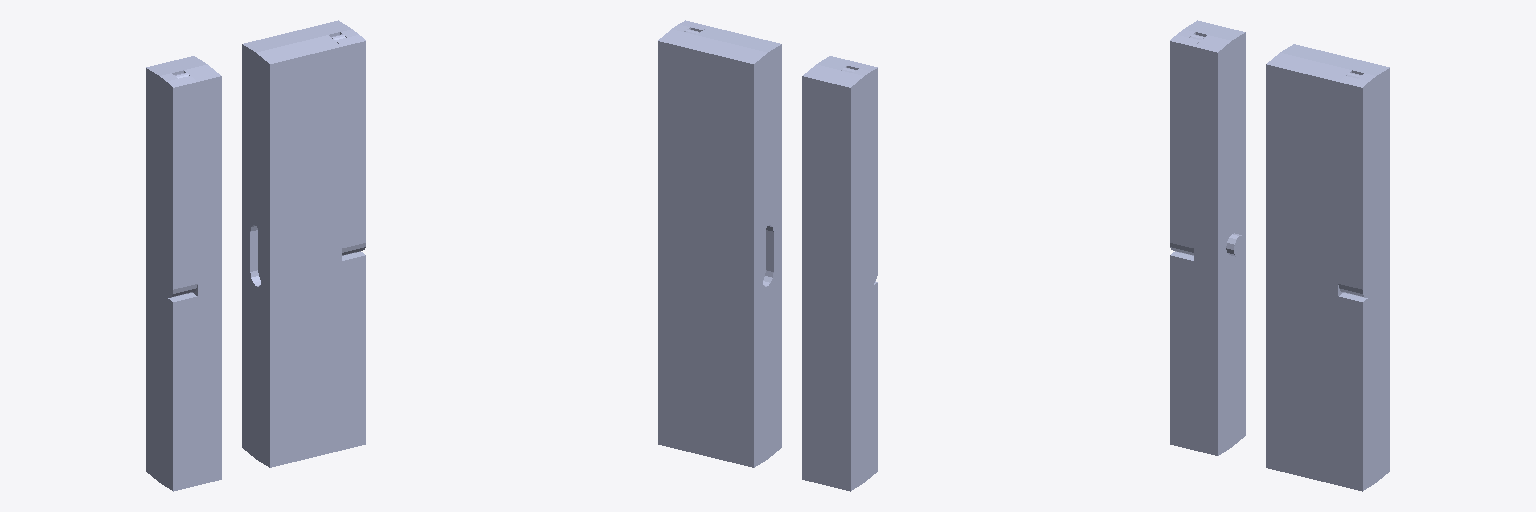
URDF robot description (TARS):
<?xml version="1.0" encoding="utf-8"?>
<!-- This URDF was automatically created by SolidWorks to URDF Exporter! Originally created by Stephen Brawner (brawner@gmail.com) 
     Commit Version: 1.6.0-4-g7f85cfe  Build Version: 1.6.7995.38578
     For more information, please see http://wiki.ros.org/sw_urdf_exporter -->
<robot
  name="TARS">
  <link
    name="base_link">
    <inertial>
      <origin
        xyz="0.000650945499891475 5.68186261335763E-16 6.76327045890586E-18"
        rpy="0 0 0" />
      <mass
        value="15.6061275835347" />
      <inertia
        ixx="1.342656303608"
        ixy="1.48562697261322E-16"
        ixz="-2.8294147550437E-18"
        iyy="0.0406509464655723"
        iyz="1.0021287407368E-16"
        izz="1.34253193836181" />
    </inertial>
    <visual>
      <origin
        xyz="0 0 0"
        rpy="0 0 0" />
      <geometry>
        <mesh
          filename="package://TARS/meshes/base_link.obj" />
      </geometry>
      <material
        name="">
        <color
          rgba="0.792156862745098 0.819607843137255 0.933333333333333 1" />
      </material>
    </visual>
    <collision>
      <origin
        xyz="0 0 0"
        rpy="0 0 0" />
      <geometry>
        <mesh
          filename="package://TARS/meshes/base_link.obj" />
      </geometry>
    </collision>
  </link>
  <link
    name="right_link">
    <inertial>
      <origin
        xyz="0.00494432219717394 -0.0359666729743279 -0.00475356305172504"
        rpy="0 0 0" />
      <mass
        value="13.6731594878913" />
      <inertia
        ixx="1.15686403106967"
        ixy="-0.0177995734020957"
        ixz="-0.00235249433610559"
        iyy="0.0350226658912917"
        iyz="0.0176585752299687"
        izz="1.15709321194351" />
    </inertial>
    <visual>
      <origin
        xyz="0 0 0"
        rpy="0 0 0" />
      <geometry>
        <mesh
          filename="package://TARS/meshes/right_link.obj" />
      </geometry>
      <material
        name="">
        <color
          rgba="0.792156862745098 0.819607843137255 0.933333333333333 1" />
      </material>
    </visual>
    <collision>
      <origin
        xyz="0 0 0"
        rpy="0 0 0" />
      <geometry>
        <mesh
          filename="package://TARS/meshes/right_link.obj" />
      </geometry>
    </collision>
  </link>
  <joint
    name="right_joint"
    type="continuous">
    <origin
      xyz="-0.125 0 0"
      rpy="1.5708 0 0" />
    <parent
      link="base_link" />
    <child
      link="right_link" />
    <axis
      xyz="1 0 0" />
  </joint>
  <link
    name="right_arm_upper_link">
    <inertial>
      <origin
        xyz="-0.0333672500409003 0.220176680127642 0.00207498884988712"
        rpy="0 0 0" />
      <mass
        value="1.81341478536214" />
      <inertia
        ixx="0.041637358084647"
        ixy="0.000605021778306699"
        ixz="-6.79968020586111E-05"
        iyy="0.00115646678181214"
        iyz="-0.000583400807235026"
        izz="0.0416452417250091" />
    </inertial>
    <visual>
      <origin
        xyz="0 0 0"
        rpy="0 0 0" />
      <geometry>
        <mesh
          filename="package://TARS/meshes/right_arm_upper_link.obj" />
      </geometry>
      <material
        name="">
        <color
          rgba="0.792156862745098 0.819607843137255 0.933333333333333 1" />
      </material>
    </visual>
    <collision>
      <origin
        xyz="0 0 0"
        rpy="0 0 0" />
      <geometry>
        <mesh
          filename="package://TARS/meshes/right_arm_upper_link.obj" />
      </geometry>
    </collision>
  </link>
  <joint
    name="right_arm_upper_joint"
    type="revolute">
    <origin
      xyz="0 0 0.03125"
      rpy="0 0 0" />
    <parent
      link="right_link" />
    <child
      link="right_arm_upper_link" />
    <axis
      xyz="1 0 0" />
    <limit
      lower="0"
      upper="1.5708"
      effort="0"
      velocity="0" />
  </joint>
  <link
    name="right_arm_lower_link">
    <inertial>
      <origin
        xyz="-0.015625 -0.1128477991555 -1.56125112837913E-16"
        rpy="0 0 0" />
      <mass
        value="0.24442176150459" />
      <inertia
        ixx="0.00129708116063147"
        ixy="-3.6189151799195E-21"
        ixz="-1.51250336383087E-24"
        iyy="3.95383680650096E-05"
        iyz="-8.58901581028341E-20"
        izz="0.00129732498031134" />
    </inertial>
    <visual>
      <origin
        xyz="0 0 0"
        rpy="0 0 0" />
      <geometry>
        <mesh
          filename="package://TARS/meshes/right_arm_lower_link.obj" />
      </geometry>
      <material
        name="">
        <color
          rgba="0.792156862745098 0.819607843137255 0.933333333333333 1" />
      </material>
    </visual>
    <collision>
      <origin
        xyz="0 0 0"
        rpy="0 0 0" />
      <geometry>
        <mesh
          filename="package://TARS/meshes/right_arm_lower_link.obj" />
      </geometry>
    </collision>
  </link>
  <joint
    name="right_arm_lower_joint"
    type="revolute">
    <origin
      xyz="0 0.48802 -0.015625"
      rpy="0 0 0" />
    <parent
      link="right_arm_upper_link" />
    <child
      link="right_arm_lower_link" />
    <axis
      xyz="1 0 0" />
    <limit
      lower="0"
      upper="3.1416"
      effort="0"
      velocity="0" />
  </joint>
  <link
    name="left_middle_link">
    <inertial>
      <origin
        xyz="0.0631509454998915 5.96003406485335E-16 4.97617020908452E-17"
        rpy="0 0 0" />
      <mass
        value="15.6061275835347" />
      <inertia
        ixx="1.342656303608"
        ixy="1.6130269726115E-16"
        ixz="-2.86989322218019E-18"
        iyy="0.0406509464655723"
        iyz="1.05454596295606E-16"
        izz="1.34253193836181" />
    </inertial>
    <visual>
      <origin
        xyz="0 0 0"
        rpy="0 0 0" />
      <geometry>
        <mesh
          filename="package://TARS/meshes/left_middle_link.obj" />
      </geometry>
      <material
        name="">
        <color
          rgba="0.792156862745098 0.819607843137255 0.933333333333333 1" />
      </material>
    </visual>
    <collision>
      <origin
        xyz="0 0 0"
        rpy="0 0 0" />
      <geometry>
        <mesh
          filename="package://TARS/meshes/left_middle_link.obj" />
      </geometry>
    </collision>
  </link>
  <joint
    name="left_middle_joint"
    type="continuous">
    <origin
      xyz="0.0625 0 0"
      rpy="1.5708 0 0" />
    <parent
      link="base_link" />
    <child
      link="left_middle_link" />
    <axis
      xyz="1 0 0" />
  </joint>
  <link
    name="left_link">
    <inertial>
      <origin
        xyz="0.0582430613949537 -0.0364425280442357 -0.00481645480376195"
        rpy="0 0 0" />
      <mass
        value="13.4946196715515" />
      <inertia
        ixx="1.15635737646566"
        ixy="0.0174615332355522"
        ixz="0.00230781699698032"
        iyy="0.0344789618730616"
        iyz="0.0176895040135128"
        izz="1.15611723913357" />
    </inertial>
    <visual>
      <origin
        xyz="0 0 0"
        rpy="0 0 0" />
      <geometry>
        <mesh
          filename="package://TARS/meshes/left_link.obj" />
      </geometry>
      <material
        name="">
        <color
          rgba="0.792156862745098 0.819607843137255 0.933333333333333 1" />
      </material>
    </visual>
    <collision>
      <origin
        xyz="0 0 0"
        rpy="0 0 0" />
      <geometry>
        <mesh
          filename="package://TARS/meshes/left_link.obj" />
      </geometry>
    </collision>
  </link>
  <joint
    name="left_joint"
    type="continuous">
    <origin
      xyz="0.125 0 0"
      rpy="0 0 0" />
    <parent
      link="left_middle_link" />
    <child
      link="left_link" />
    <axis
      xyz="1 0 0" />
  </joint>
  <link
    name="left_arm_upper_link">
    <inertial>
      <origin
        xyz="0.0333672500409004 0.220176680127642 0.00207498884988713"
        rpy="0 0 0" />
      <mass
        value="1.81341478536214" />
      <inertia
        ixx="0.0416373580846469"
        ixy="-0.000605021778306698"
        ixz="6.79968020586111E-05"
        iyy="0.00115646678181214"
        iyz="-0.000583400807235025"
        izz="0.041645241725009" />
    </inertial>
    <visual>
      <origin
        xyz="0 0 0"
        rpy="0 0 0" />
      <geometry>
        <mesh
          filename="package://TARS/meshes/left_arm_upper_link.obj" />
      </geometry>
      <material
        name="">
        <color
          rgba="0.792156862745098 0.819607843137255 0.933333333333333 1" />
      </material>
    </visual>
    <collision>
      <origin
        xyz="0 0 0"
        rpy="0 0 0" />
      <geometry>
        <mesh
          filename="package://TARS/meshes/left_arm_upper_link.obj" />
      </geometry>
    </collision>
  </link>
  <joint
    name="left_arm_upper_joint"
    type="revolute">
    <origin
      xyz="0.0625 0 0.03125"
      rpy="0 0 0" />
    <parent
      link="left_link" />
    <child
      link="left_arm_upper_link" />
    <axis
      xyz="1 0 0" />
    <limit
      lower="0"
      upper="1.5708"
      effort="0"
      velocity="0" />
  </joint>
  <link
    name="left_arm_lower_link">
    <inertial>
      <origin
        xyz="0.015625 -0.1128477991555 -3.29597460435593E-17"
        rpy="0 0 0" />
      <mass
        value="0.24442176150459" />
      <inertia
        ixx="0.00129708116063147"
        ixy="-3.6189151799195E-21"
        ixz="-1.51250336383087E-24"
        iyy="3.95383680650096E-05"
        iyz="-8.63037484091106E-20"
        izz="0.00129732498031134" />
    </inertial>
    <visual>
      <origin
        xyz="0 0 0"
        rpy="0 0 0" />
      <geometry>
        <mesh
          filename="package://TARS/meshes/left_arm_lower_link.obj" />
      </geometry>
      <material
        name="">
        <color
          rgba="0.792156862745098 0.819607843137255 0.933333333333333 1" />
      </material>
    </visual>
    <collision>
      <origin
        xyz="0 0 0"
        rpy="0 0 0" />
      <geometry>
        <mesh
          filename="package://TARS/meshes/left_arm_lower_link.obj" />
      </geometry>
    </collision>
  </link>
  <joint
    name="left_arm_lower_joint"
    type="revolute">
    <origin
      xyz="0 0.48802 -0.015625"
      rpy="0 0 0" />
    <parent
      link="left_arm_upper_link" />
    <child
      link="left_arm_lower_link" />
    <axis
      xyz="1 0 0" />
    <limit
      lower="0"
      upper="3.1416"
      effort="0"
      velocity="0" />
  </joint>
</robot>

--- Facts derived from the render (not from the file) ---
The picture shows the robot from 3 angles, left to right: view 1: azimuth 30°, elevation 25°; view 2: azimuth 150°, elevation 25°; view 3: azimuth 330°, elevation 25°; orthographic projection.
Model TARS with 8 links and 7 joints (4 revolute, 3 continuous), rooted at base_link, posed all joints at 0.
Visible links, largest first — view 1: left_middle_link, right_link, left_link, right_arm_upper_link, left_arm_upper_link; view 2: left_middle_link, right_link, left_link, right_arm_upper_link; view 3: right_link, left_link, left_middle_link, left_arm_upper_link, right_arm_upper_link.
Link boxes in pixels (left/top/right/bottom): left_middle_link: left=242, top=32, right=317, bottom=467; right_link: left=146, top=56, right=221, bottom=491; left_link: left=291, top=20, right=365, bottom=455; right_arm_upper_link: left=160, top=73, right=197, bottom=297; left_arm_upper_link: left=335, top=29, right=365, bottom=255; left_middle_link: left=706, top=32, right=781, bottom=467; right_link: left=802, top=56, right=877, bottom=491; left_link: left=658, top=26, right=732, bottom=455; right_arm_upper_link: left=847, top=62, right=877, bottom=287; right_link: left=1170, top=20, right=1245, bottom=455; left_link: left=1314, top=56, right=1389, bottom=491; left_middle_link: left=1266, top=44, right=1340, bottom=479; left_arm_upper_link: left=1338, top=73, right=1375, bottom=297; right_arm_upper_link: left=1170, top=29, right=1200, bottom=255.
Bounding box of the posed robot: 0.5 × 0.125 × 1.01 m (x, y, z).
Meshes: 8 distinct files referenced, 7 mesh visuals loaded (7 OBJ); not drawn: 1 (reference not matched to a file when rendering).
